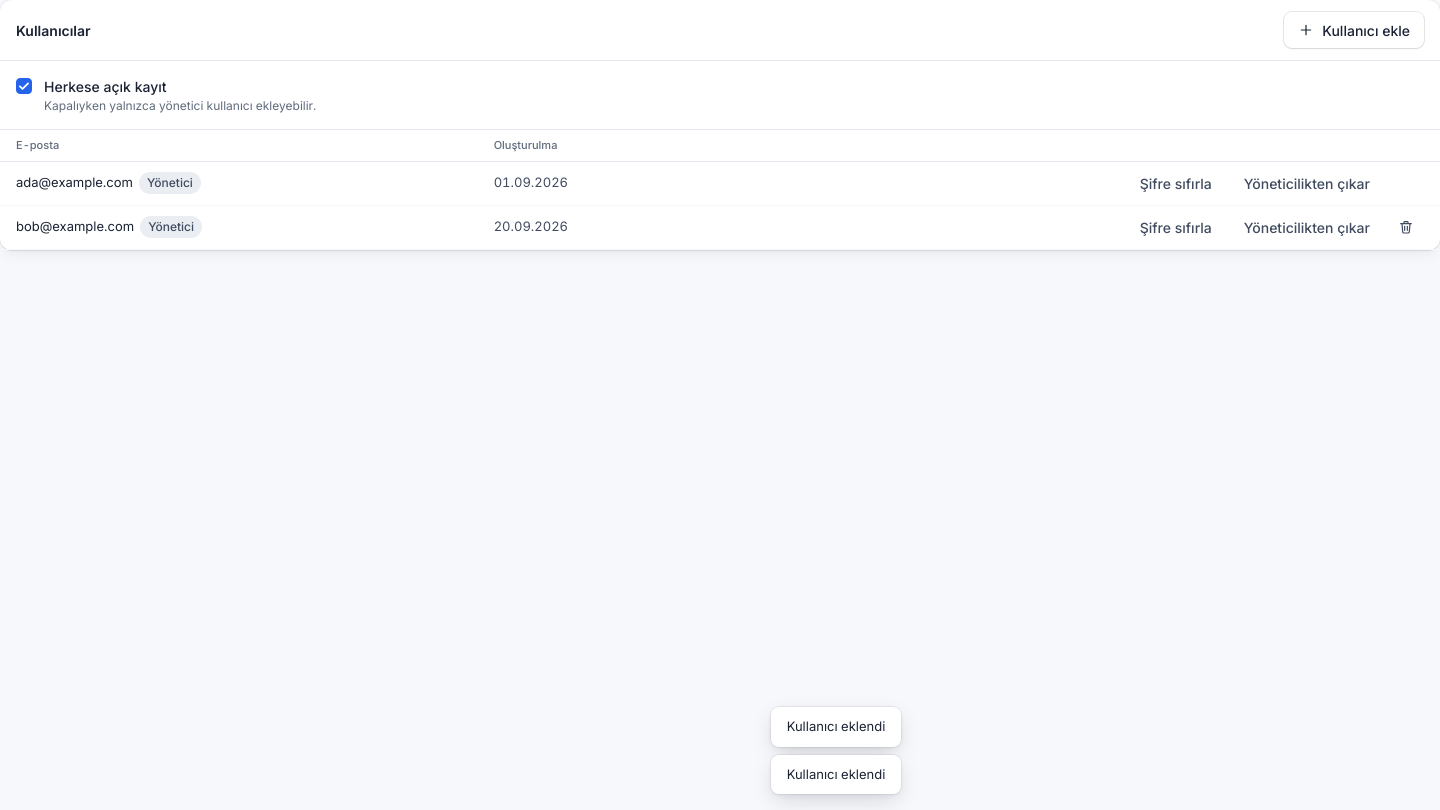
Test: UsersSection › asks before an admin demotes themselves, then leaves /admin for home
The width and height of the screenshot is (1440, 810).
Expected: the text "bob@example.com" is shown, [16, 217, 134, 237]
Click the button with aria-label "ada@example.com kullanıcısını yöneticilikten çıkar" at (1307, 183), box [1230, 165, 1384, 201]
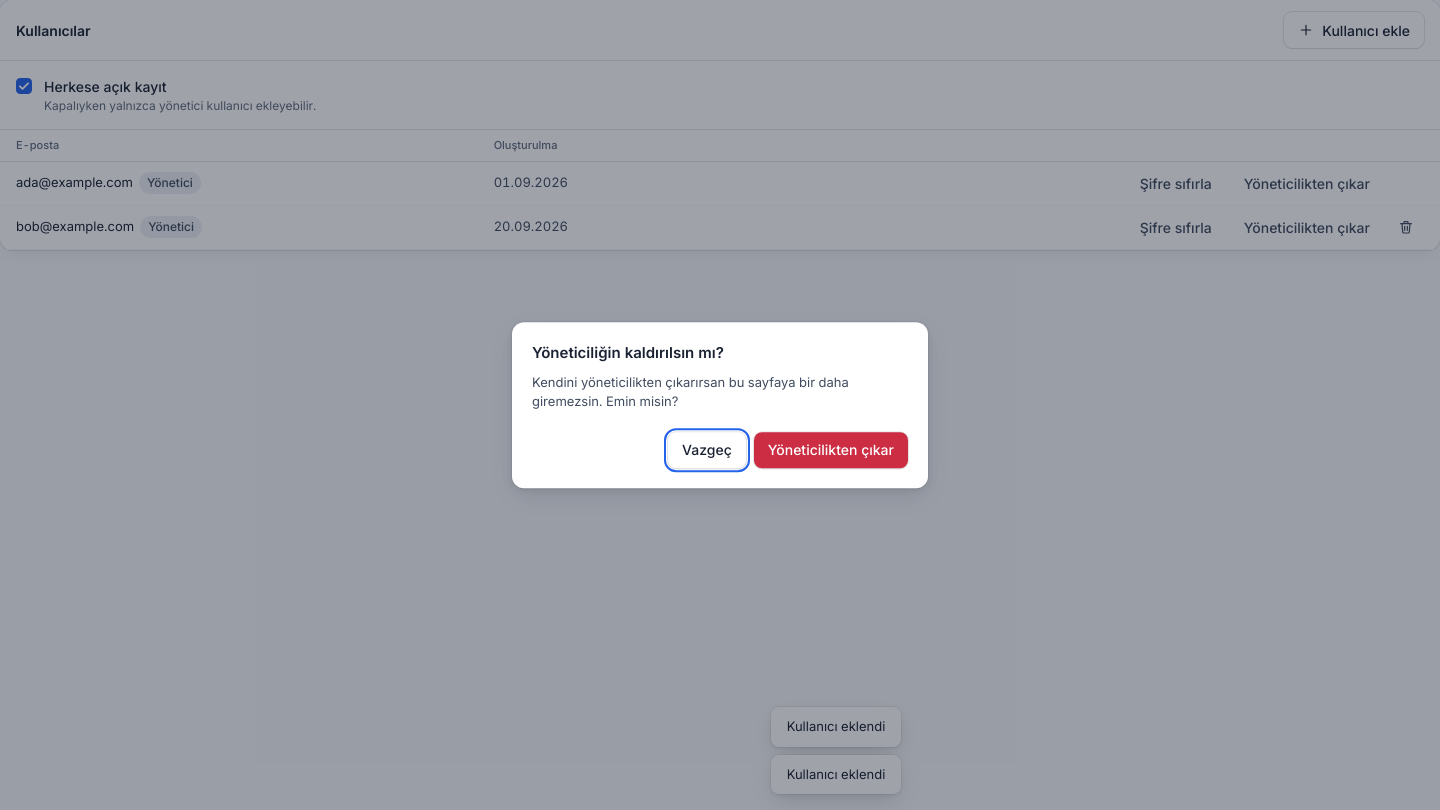
Now the text "Kendini yöneticilikten çıkarırsan bu sayfaya bir daha giremezsin. Emin misin?" is shown, box [532, 374, 849, 409]
Click the button "Yöneticilikten çıkar" at (831, 450), box [754, 432, 908, 468]
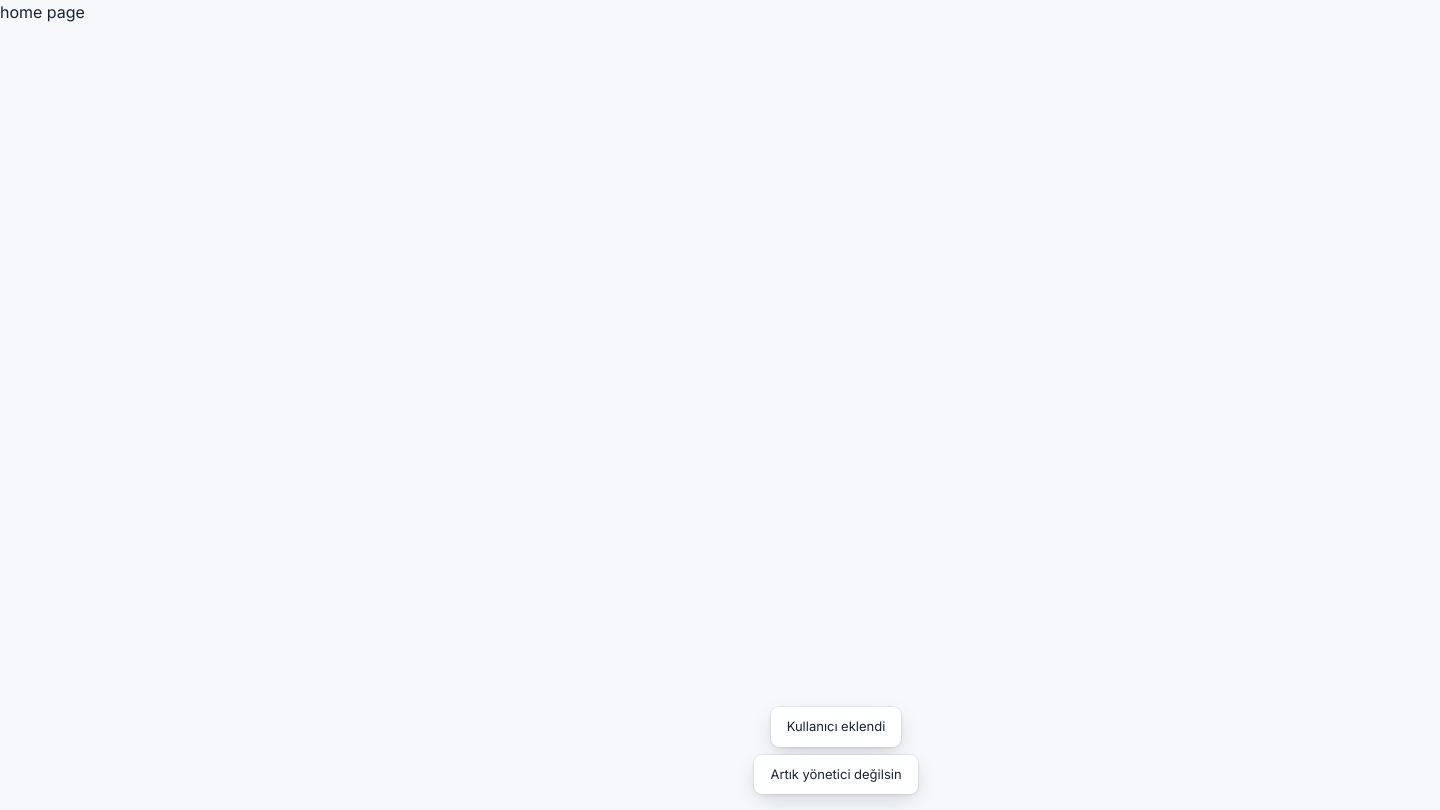
Now the text "home page" is shown, box [0, 2, 85, 22]
Now the text "Artık yönetici değilsin" is shown, box [770, 764, 902, 784]
